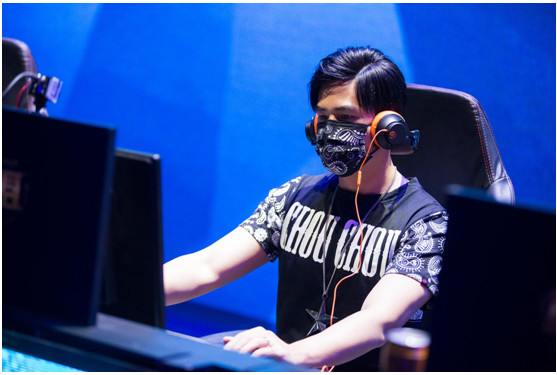face_mask: (312, 78, 384, 175)
